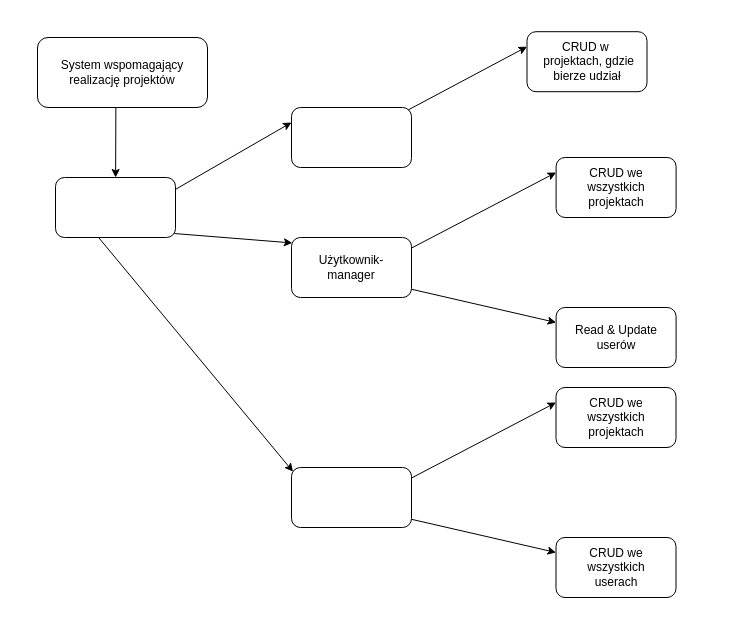
The diagram is 754 pixels wide and 644 high, and some of its shapes have lost their labels. Here are the shapes that lost their labels. From the top down, the centre of each, then its label:
pixel 351 137: Użytkownik-reader
pixel 115 207: Logowanie
pixel 351 497: Użytkownik-admin
